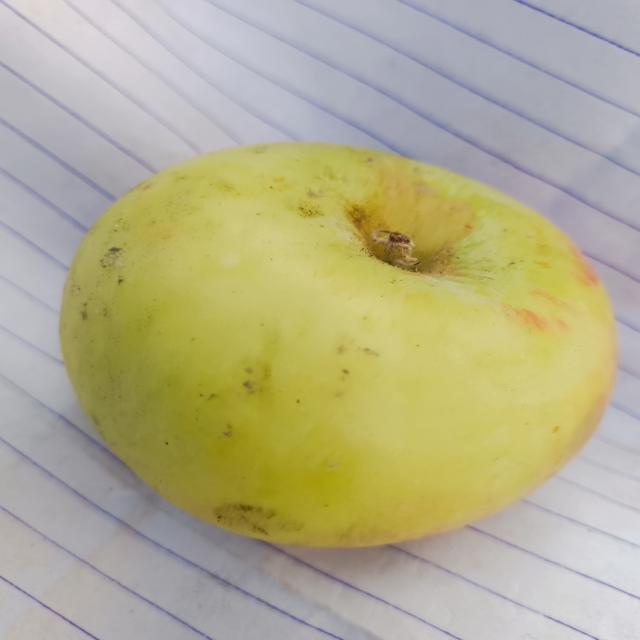Fresh Apple: (65, 148, 613, 552)
